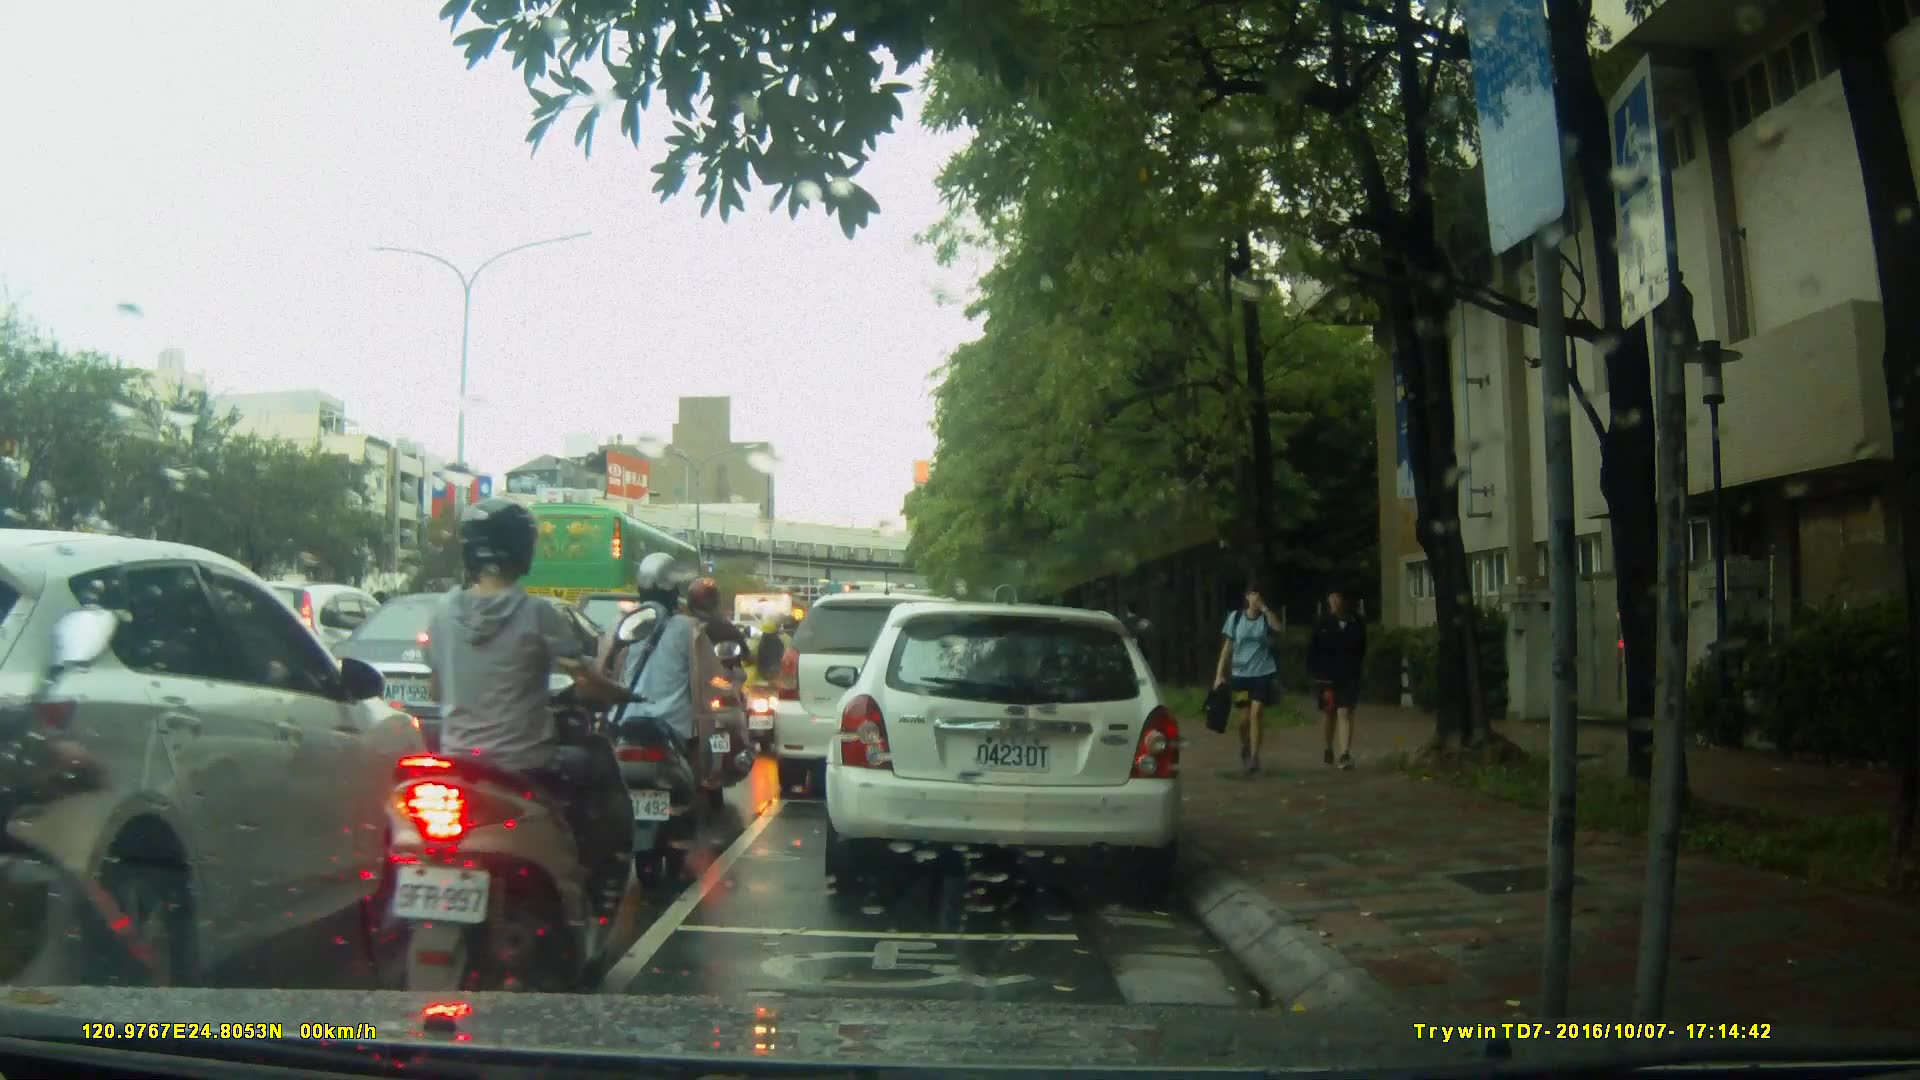pedestrian: (1197, 576, 1306, 778), (1307, 571, 1385, 774), (1123, 596, 1157, 692)
rider: (390, 495, 632, 996), (596, 552, 722, 869), (672, 577, 758, 791), (746, 605, 803, 755), (767, 617, 815, 734)
vehicle: (1, 528, 447, 988), (831, 592, 1196, 897), (313, 590, 633, 804), (770, 591, 999, 803), (495, 500, 707, 636)
